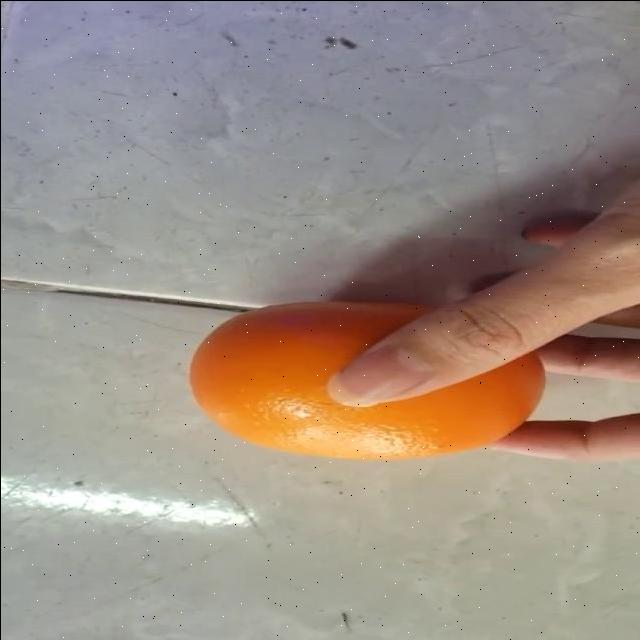Orange: (188, 299, 546, 462)
